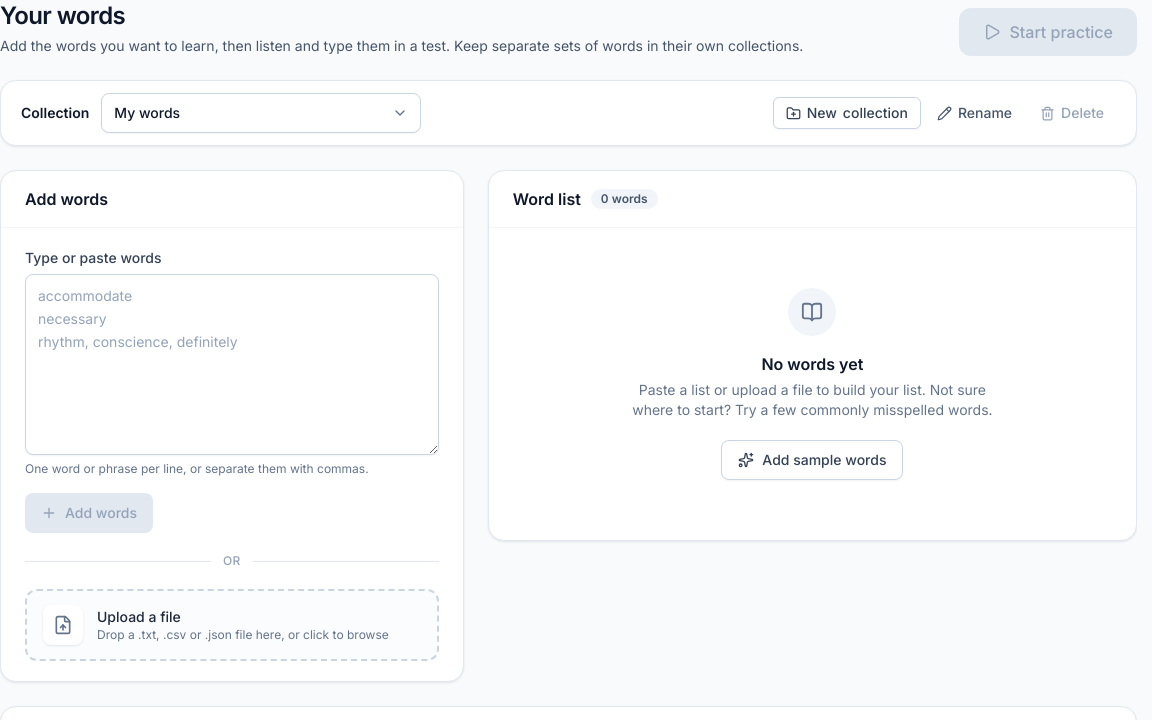
WordLibrary collections › renames the active collection
Click the button "Rename".
click(974, 113)  # box [925,97,1024,129]
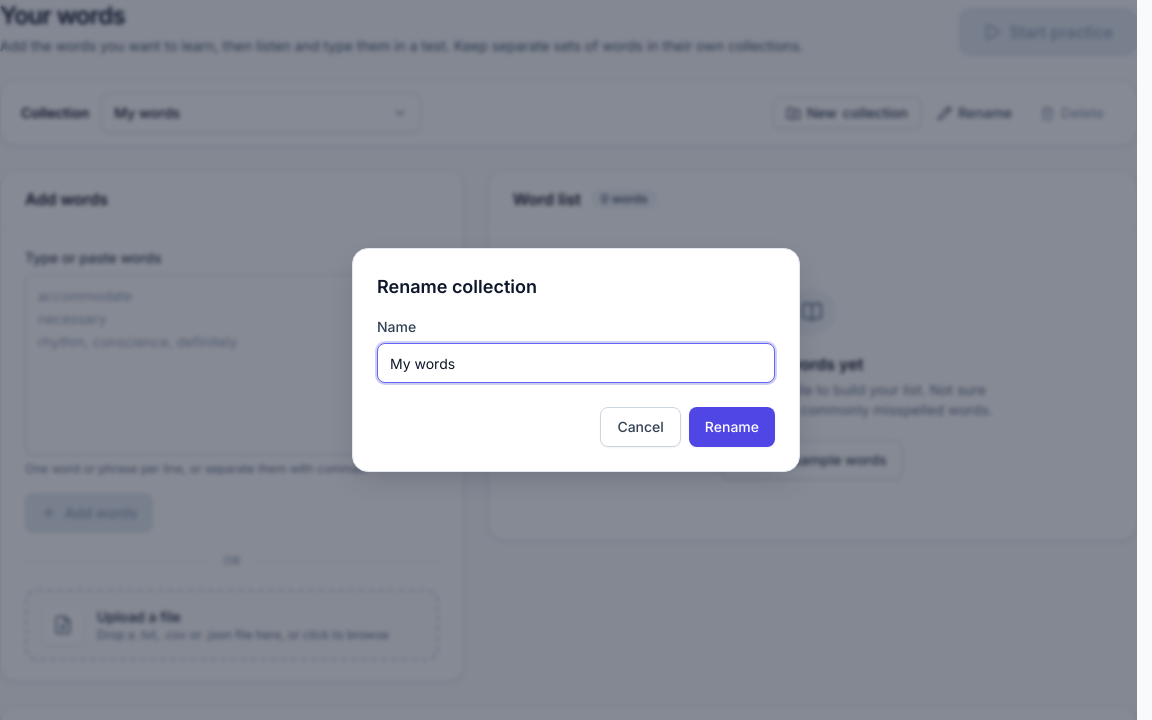
Replace the text in the field labelled "Name" with "Spelling bee" at (576, 363), box [377,343,775,383]
Then press Enter
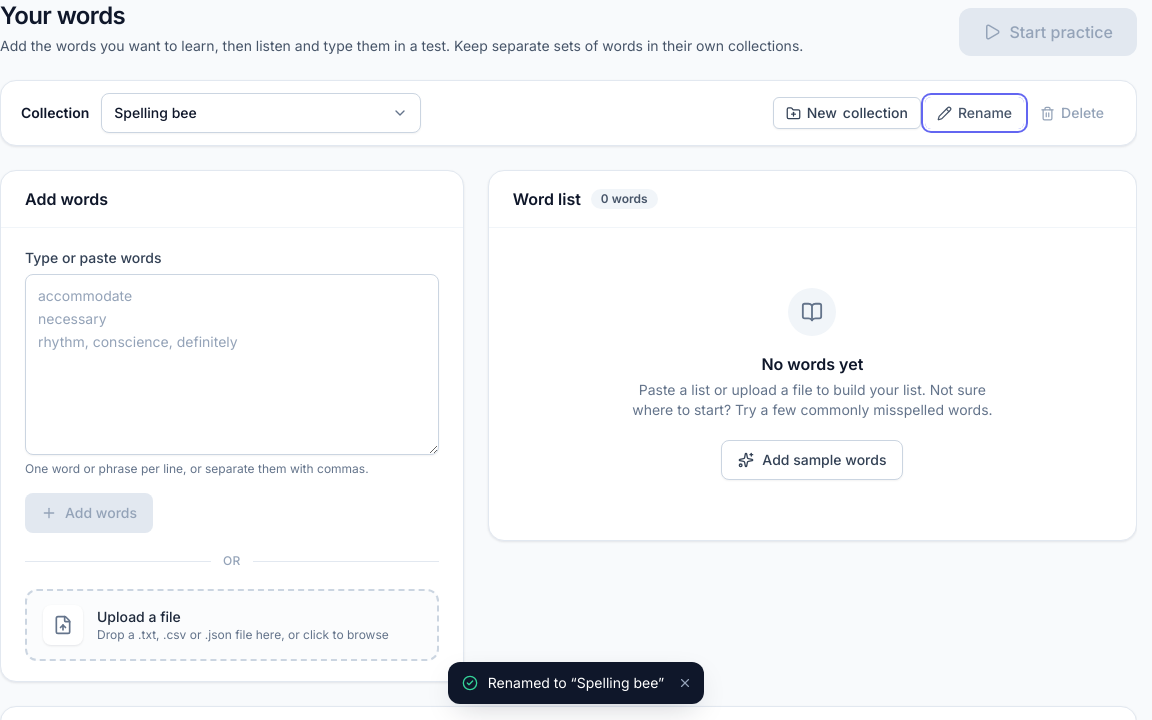
Expected: the text "Spelling bee" is shown, [114,104,197,121]
